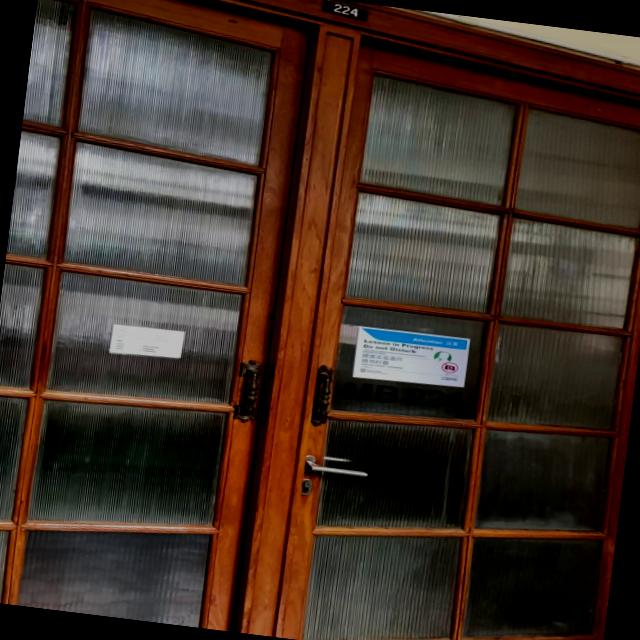room224: (318, 0, 371, 23)
room224Window: (341, 376, 465, 414)
